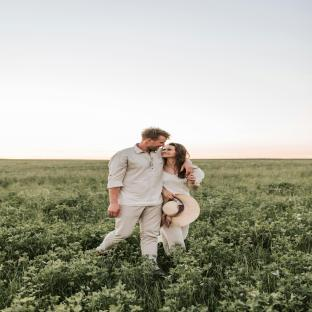Human: (97, 127, 204, 262)
